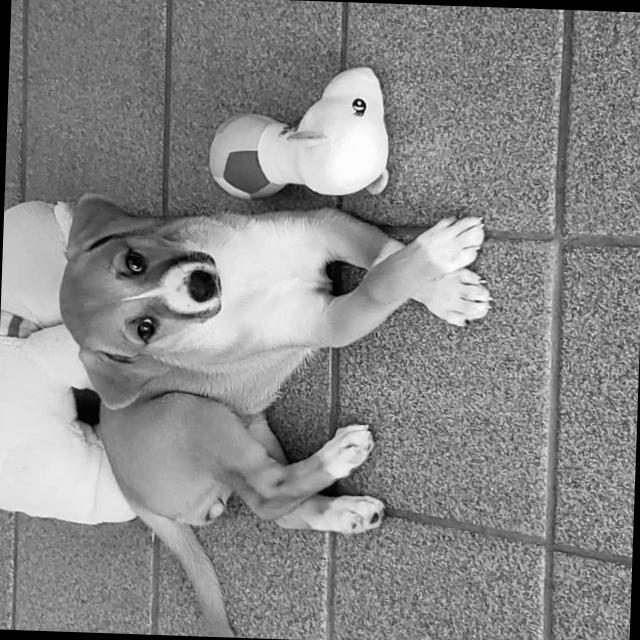laying down: (48, 186, 498, 616)
